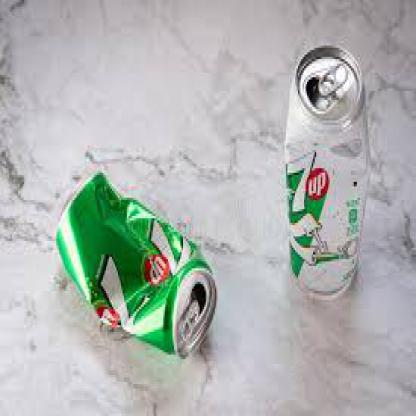METAL: (54, 166, 216, 359), (281, 44, 366, 302)
